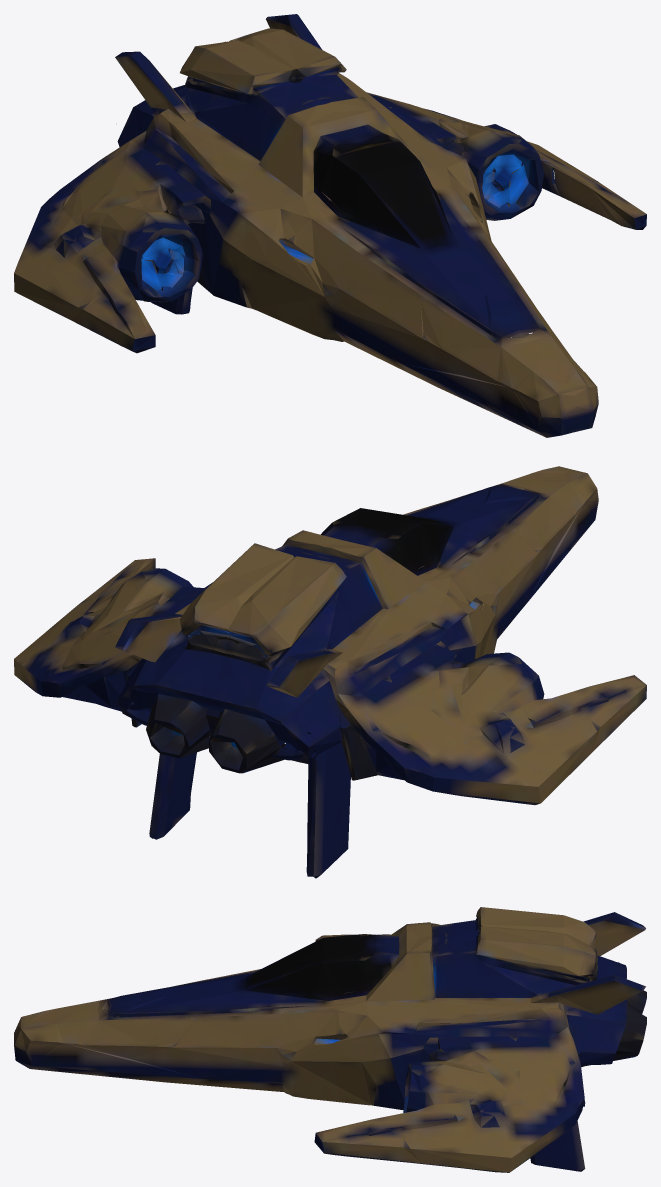
The picture shows the model from 3 angles, top to bottom: view 1: azimuth 30°, elevation 25°; view 2: azimuth 150°, elevation 25°; view 3: azimuth 270°, elevation 25°; orthographic projection. The views are drawn at different scales.
Bounding box in the file's own units: 0.8326 × 0.3946 × 1.05.
7 materials, 1 textured.
